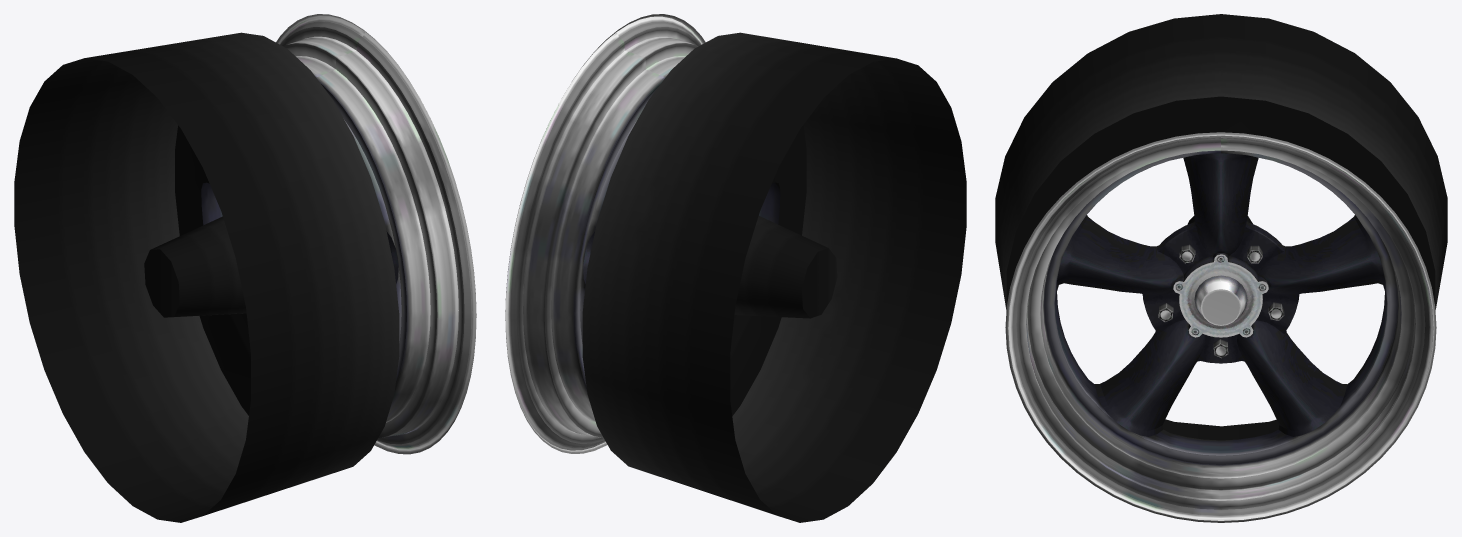
The model's file is wheel5.fbx.
3 renders of one model, left to right at view 1: azimuth 30°, elevation 25°; view 2: azimuth 150°, elevation 25°; view 3: azimuth 270°, elevation 25°, orthographic. The views are drawn at different scales.
Parts seen in each view (by area): view 1: ame_torqthrust_wheel_wheel_inner_rim_, wheel_rim, ame_torqthrust_wheel_wheel_rim_; view 2: ame_torqthrust_wheel_wheel_inner_rim_, wheel_rim, ame_torqthrust_wheel_wheel_rim_; view 3: ame_torqthrust_wheel_wheel_inner_rim_, wheel_rim, ame_torqthrust_wheel_wheel_rim_.
Boxes of the visible parts, x1,y1,x2,y2 form: ame_torqthrust_wheel_wheel_inner_rim_: (14, 32, 399, 522); wheel_rim: (276, 14, 476, 454); ame_torqthrust_wheel_wheel_rim_: (201, 14, 401, 342); ame_torqthrust_wheel_wheel_inner_rim_: (582, 32, 966, 522); wheel_rim: (505, 14, 705, 453); ame_torqthrust_wheel_wheel_rim_: (580, 30, 780, 343); ame_torqthrust_wheel_wheel_inner_rim_: (995, 14, 1447, 440); wheel_rim: (1005, 132, 1436, 522); ame_torqthrust_wheel_wheel_rim_: (1054, 132, 1387, 455).
Bounding box in the file's own units: 0.2267 × 0.402 × 0.3999.
1 material, 1 textured.
